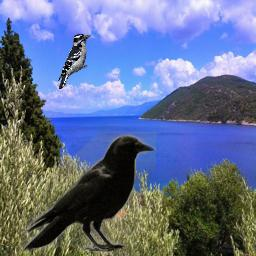Crow: (20, 132, 156, 256)
Woodpecker: (58, 33, 91, 90)
